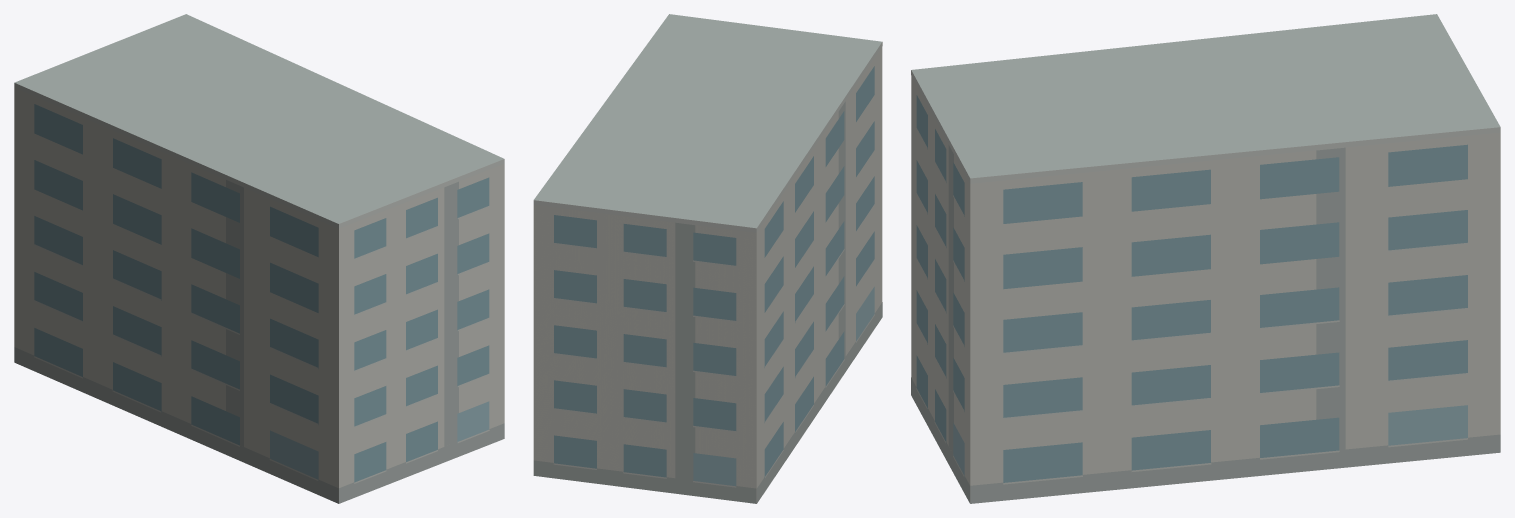
Rendered from survey-upis-32820731.glb.
3 renders of one model, left to right at view 1: azimuth 30°, elevation 25°; view 2: azimuth 150°, elevation 25°; view 3: azimuth 270°, elevation 25°, orthographic. The views are drawn at different scales.
Parts seen in each view (by area): view 1: survey-upis-32820731.tmp; view 2: survey-upis-32820731.tmp; view 3: survey-upis-32820731.tmp.
Part boxes in pixels (<box>): survey-upis-32820731.tmp: <box>14,14,504,503</box>; survey-upis-32820731.tmp: <box>533,14,882,503</box>; survey-upis-32820731.tmp: <box>911,14,1500,503</box>.
Bounding box in the file's own units: 15.56 × 14.35 × 23.56.
